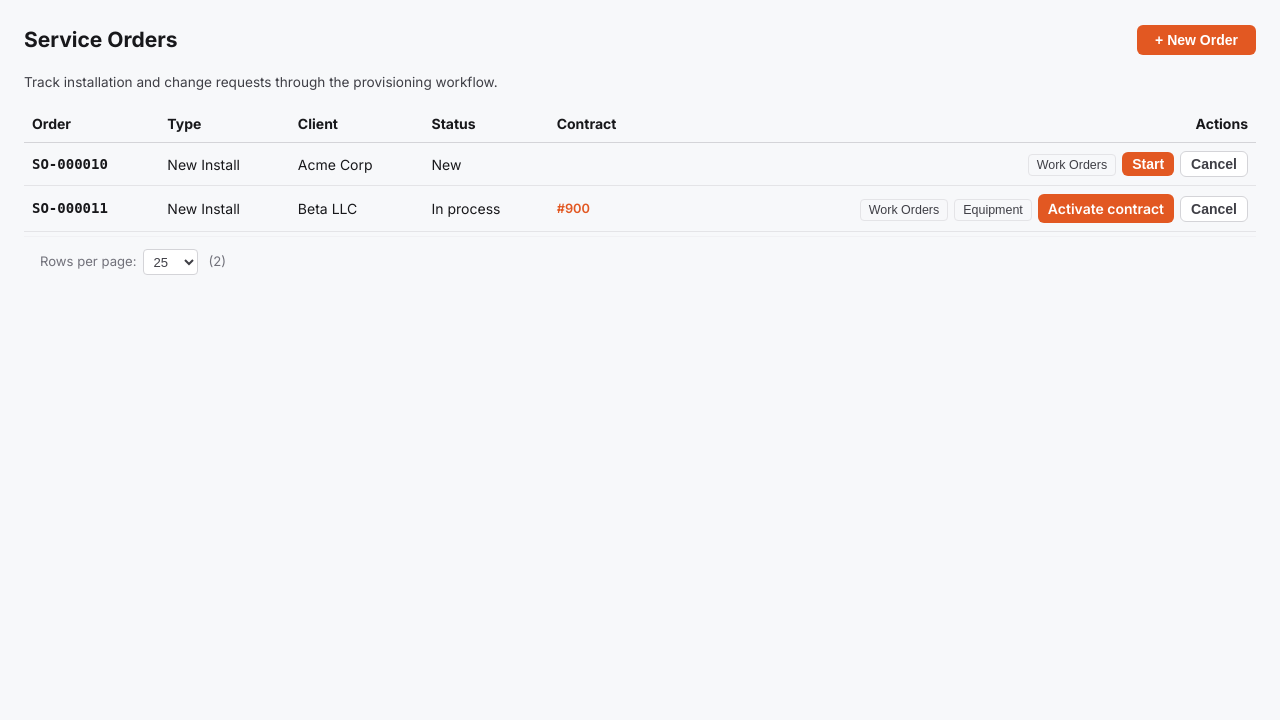
Test: ServiceOrderList page › clicking Start posts to the start endpoint and shows PPPoE credentials from the response
The image size is (1280, 720).
Click the button "Start".
click(1148, 164)  # box x1=1122 y1=152 x2=1174 y2=176
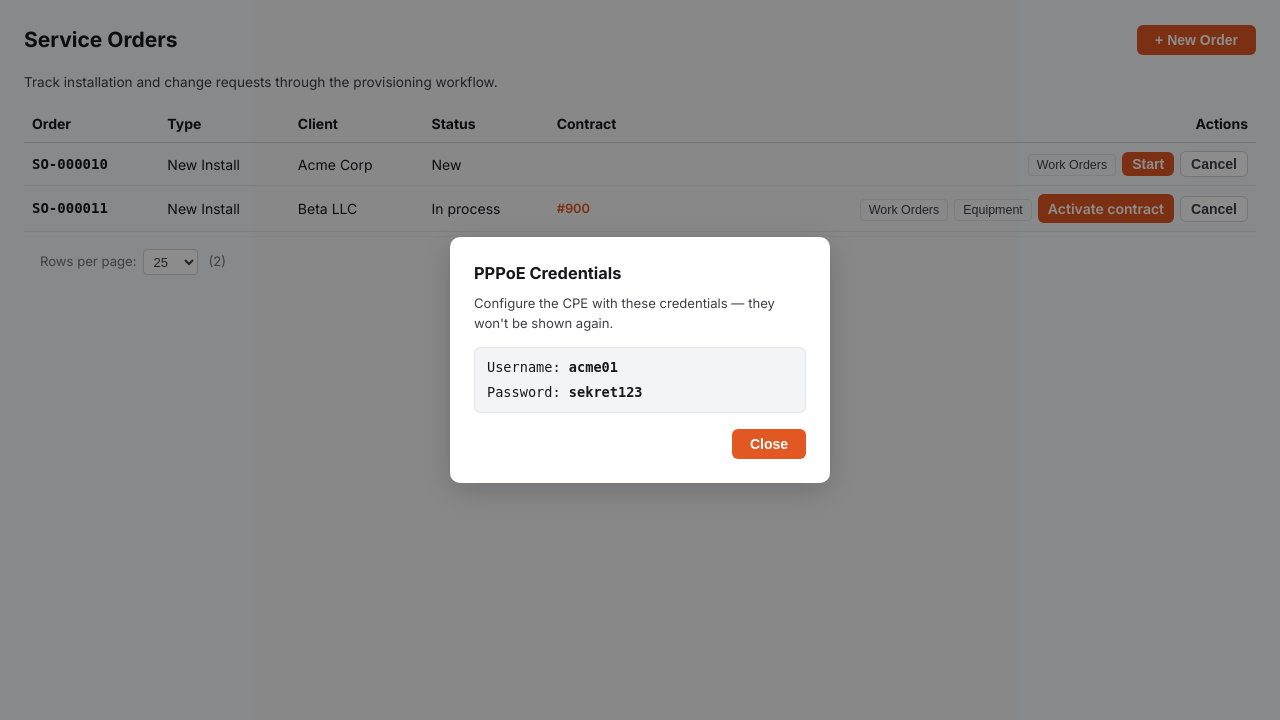
Result: the text "acme01" is shown at x1=569 y1=359 x2=618 y2=375
Result: the text "sekret123" is shown at x1=569 y1=384 x2=643 y2=400
